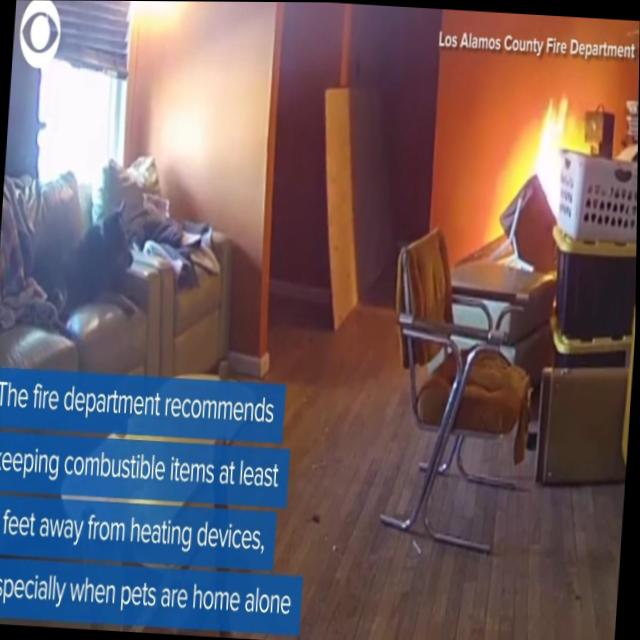fire: (533, 87, 591, 228)
